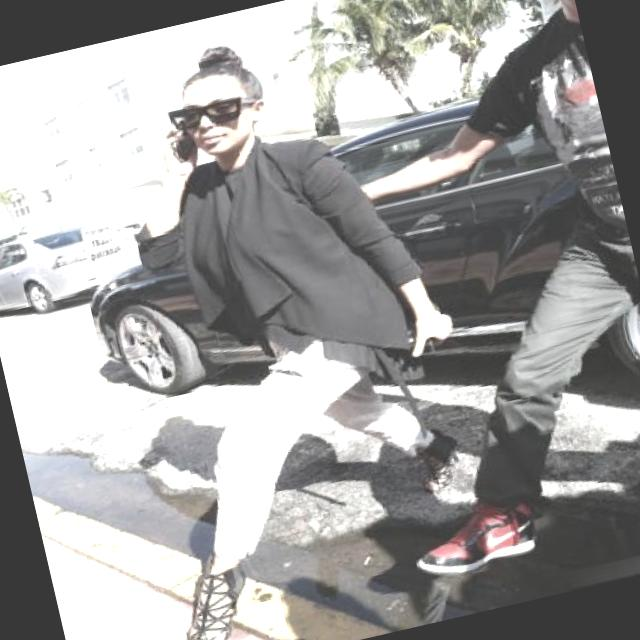Person: (21, 0, 522, 640)
